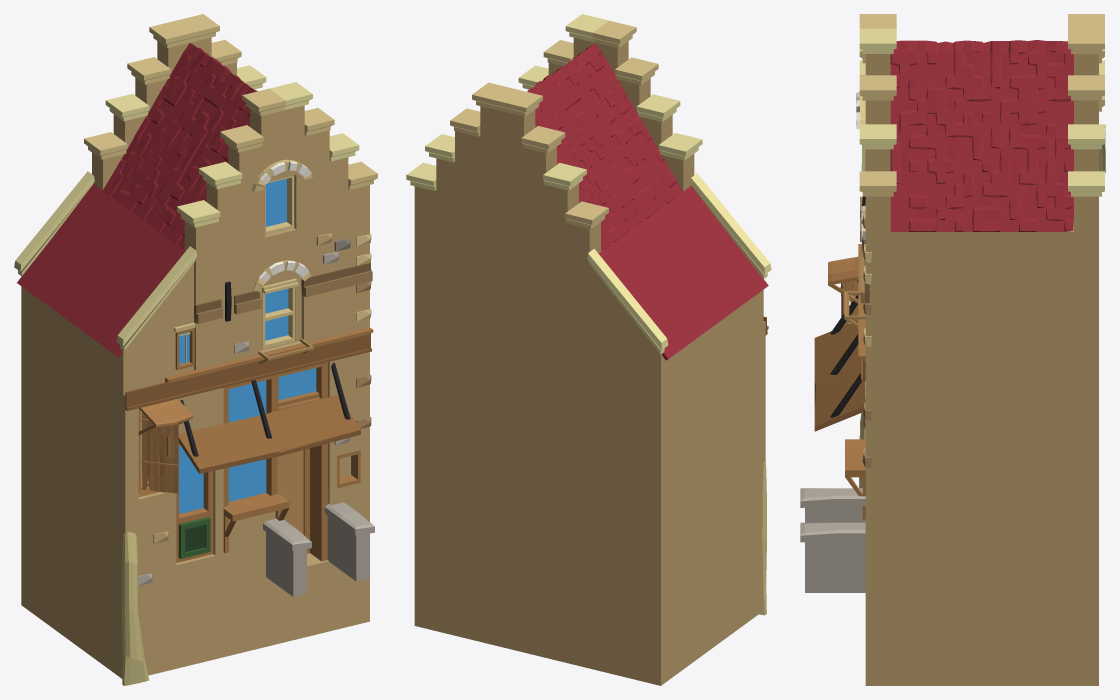
Rendered from EA_TenementHouse_01d.fbx.
3 renders of one model, left to right at view 1: azimuth 30°, elevation 25°; view 2: azimuth 150°, elevation 25°; view 3: azimuth 270°, elevation 25°, orthographic. The views are drawn at different scales.
Visible parts, largest first — view 1: EA_TenementHouse_01d_LOD0; view 2: EA_TenementHouse_01d_LOD0; view 3: EA_TenementHouse_01d_LOD0.
Boxes of the visible parts, left/top/right/bottom form: EA_TenementHouse_01d_LOD0: left=14, top=14, right=377, bottom=685; EA_TenementHouse_01d_LOD0: left=406, top=14, right=771, bottom=685; EA_TenementHouse_01d_LOD0: left=800, top=14, right=1105, bottom=685.
Size of what is drawn, in the model's own units: 6.33 by 12.96 by 5.84.
